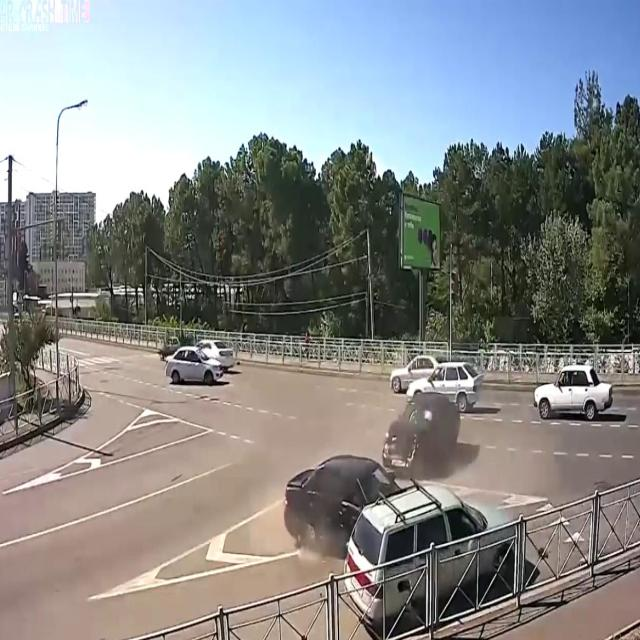accident: (278, 385, 525, 635)
non_accident: (152, 326, 240, 392)
